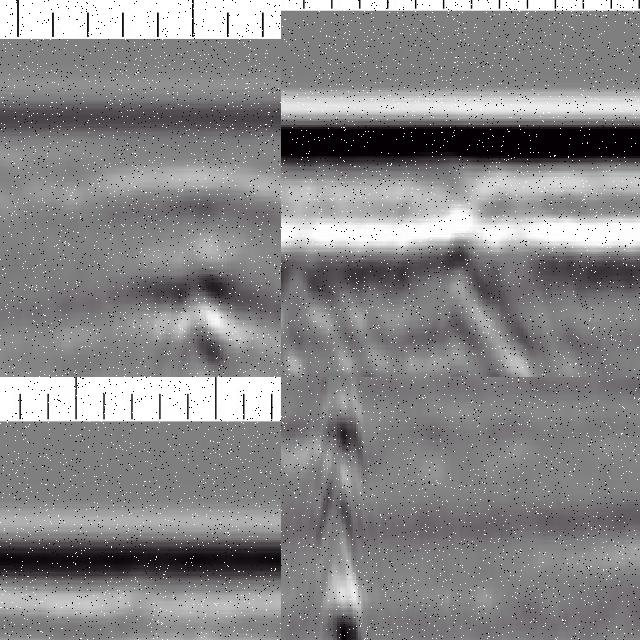crack: (308, 378, 369, 640)
loose: (282, 205, 543, 378), (111, 167, 282, 378)
